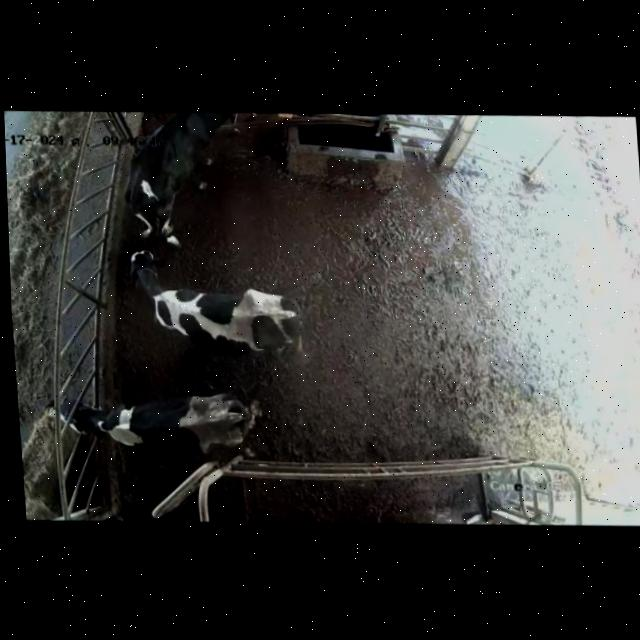eat: (26, 380, 139, 458)
stand: (116, 238, 327, 384), (112, 104, 262, 248)
